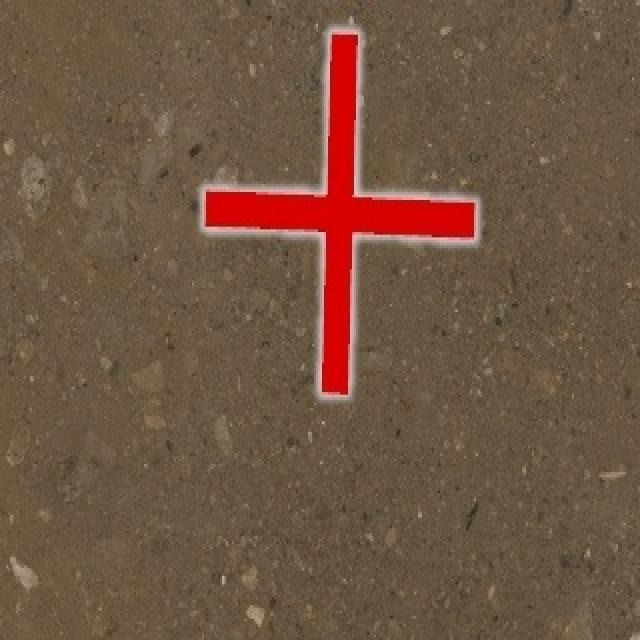x_marker: (203, 31, 475, 393)
